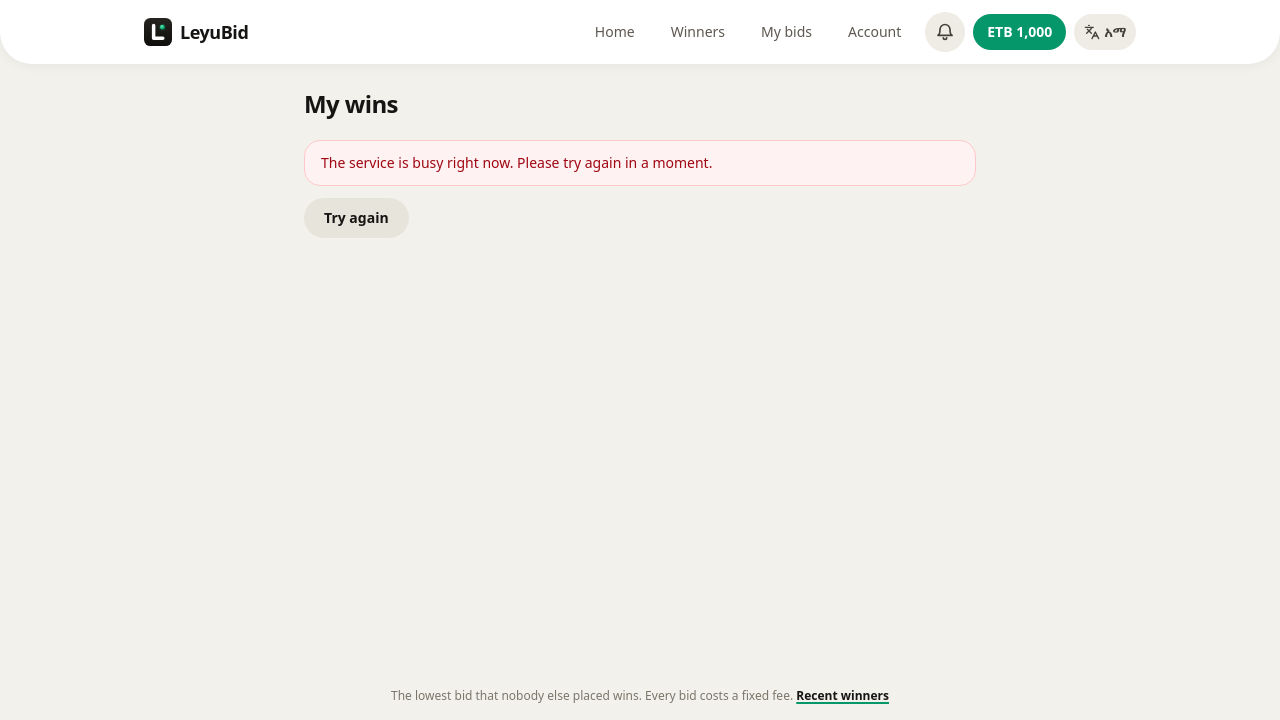
Test case: my wins › says so when there are no wins, and offers to retry when loading fails
Expected: the message "The service is busy right now. Please try again in a moment." is shown, [304,140,976,186]
Click the button "Try again".
click(356, 218)  # box [304,198,409,238]
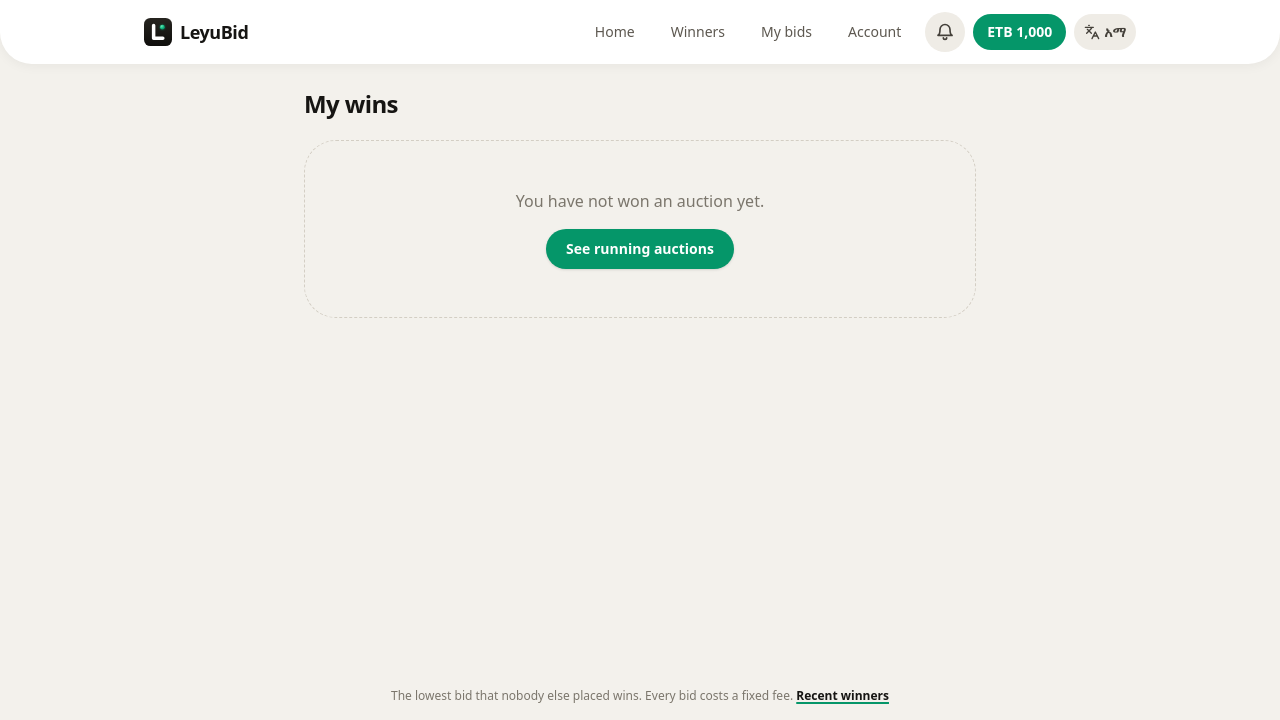
Expected: the text "You have not won an auction yet." is shown, [516,190,764,212]
